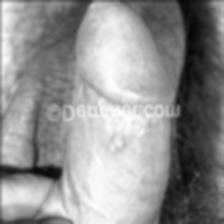Toxin: (142, 176, 166, 200), (107, 130, 131, 153)
